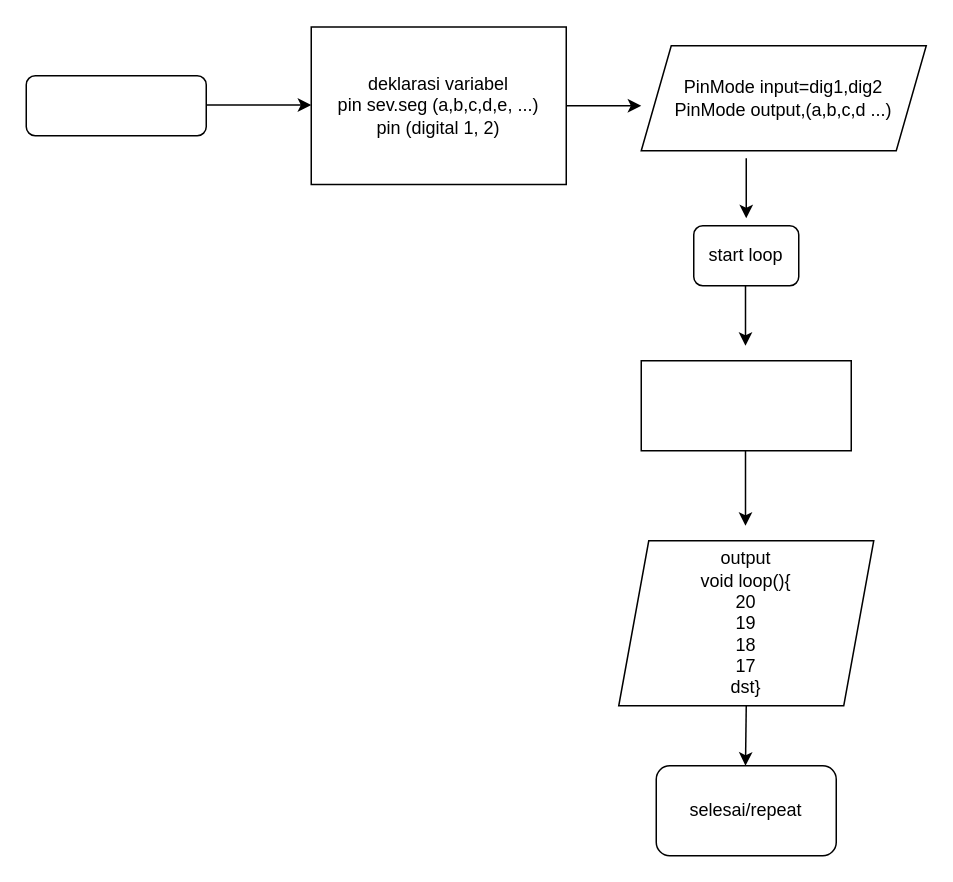
The diagram is 953 pixels wide and 882 high, and some of its shapes have lost their labels. The centre of each missing label's shape, as x and y in pixels:
mulai: point (115, 105)
start counting: point (745, 405)
